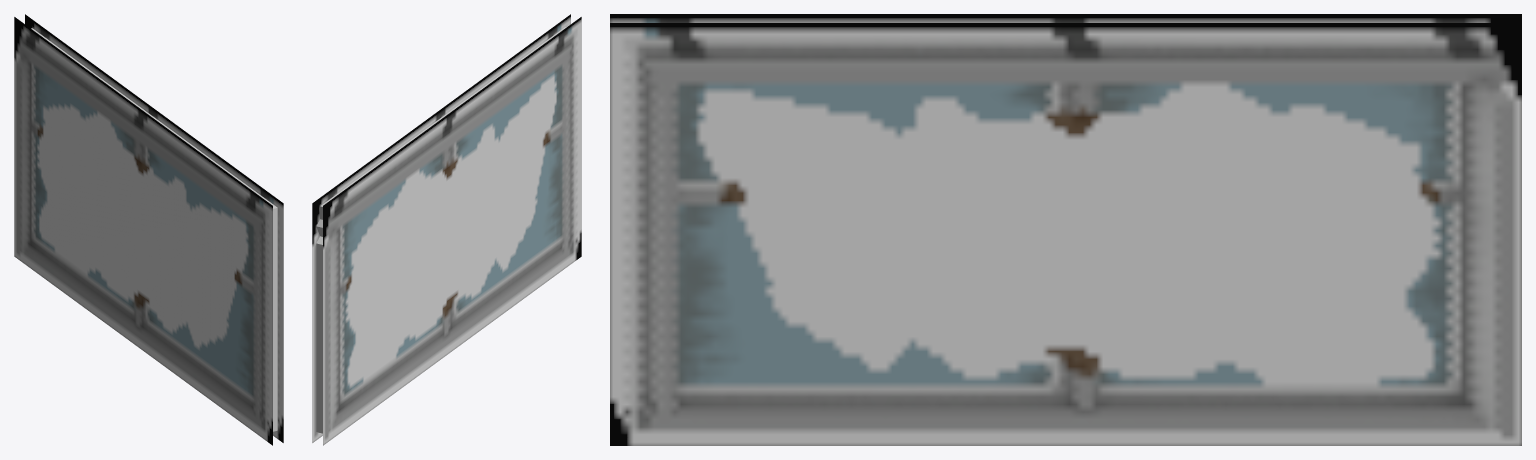
The model's file is pz_native_fixtures_windows_white_66_frame.obj.
3 views of the same model, side by side, from view 1: azimuth 30°, elevation 25°; view 2: azimuth 150°, elevation 25°; view 3: azimuth 270°, elevation 25° (orthographic). The views are drawn at different scales.
Visible parts, largest first — view 1: pz_native_fixtures_windows_white_66_frame; view 2: pz_native_fixtures_windows_white_66_frame; view 3: pz_native_fixtures_windows_white_66_frame.
Boxes of the visible parts, x1,y1,x2,y2 form: pz_native_fixtures_windows_white_66_frame: (14,14,283,445); pz_native_fixtures_windows_white_66_frame: (312,14,581,445); pz_native_fixtures_windows_white_66_frame: (610,14,1521,445).
Bounding box in the file's own units: 0.04 × 0.875 × 1.71.
1 material, 1 textured.
